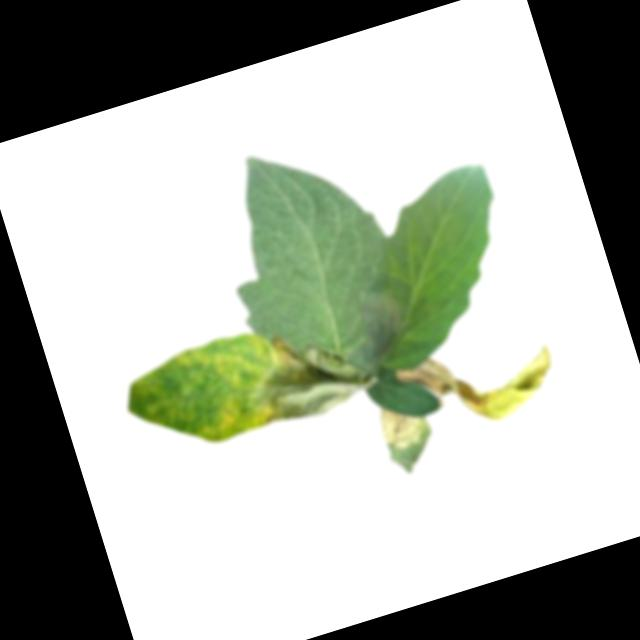Late_blight: (394, 320, 568, 444), (241, 313, 379, 430), (327, 277, 423, 382), (374, 393, 430, 454)
